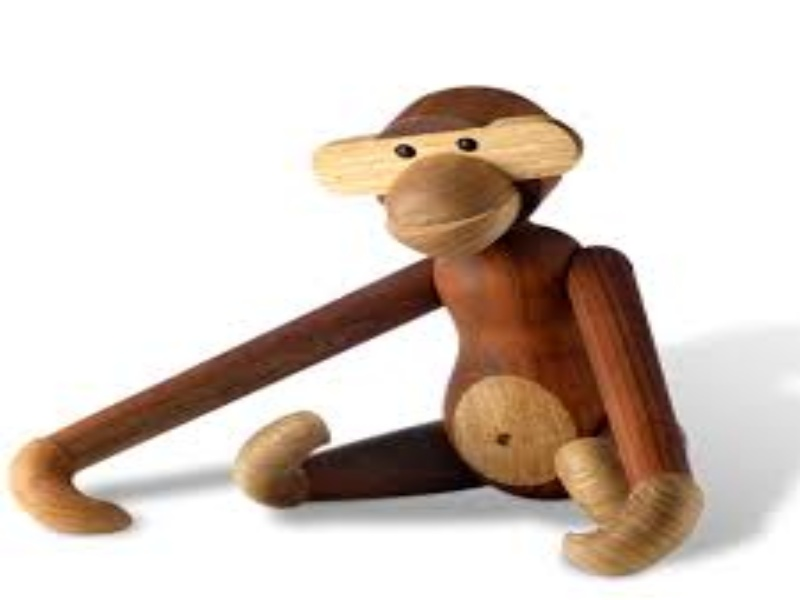monkey: (16, 81, 715, 565)
